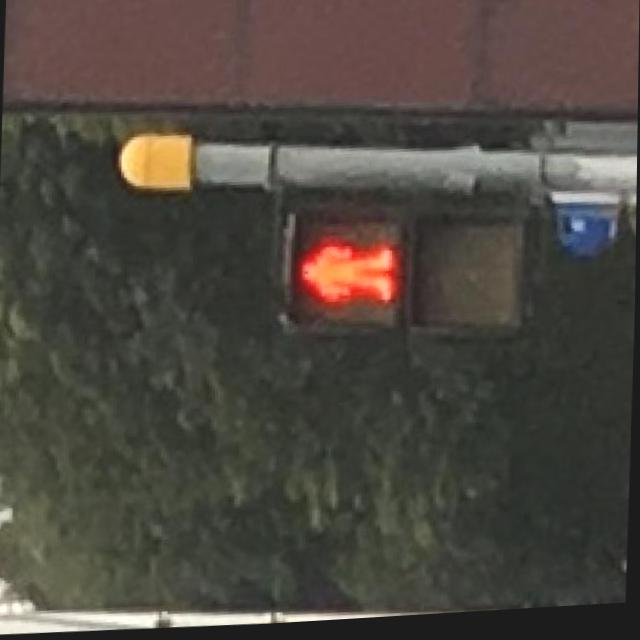red_light: (284, 228, 400, 326)
